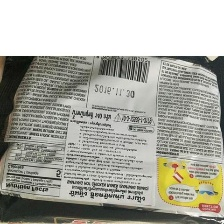snack: (0, 56, 224, 224)
